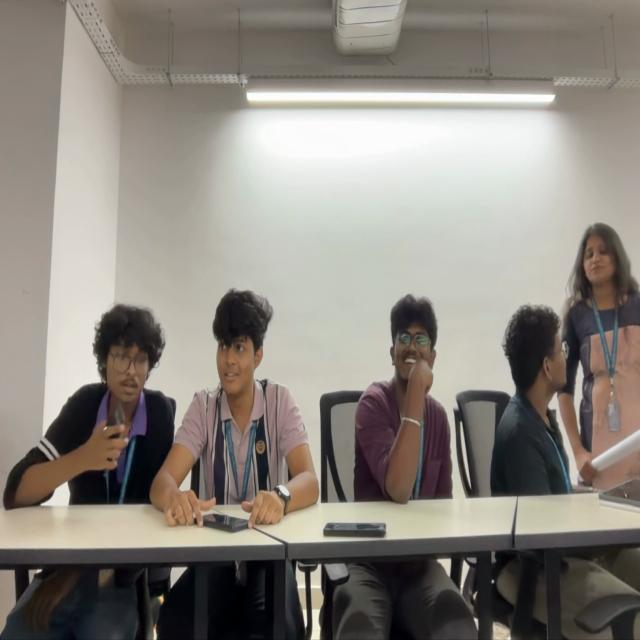Isolated: (358, 293, 452, 496)
socializing: (28, 276, 319, 528), (488, 220, 640, 489)
